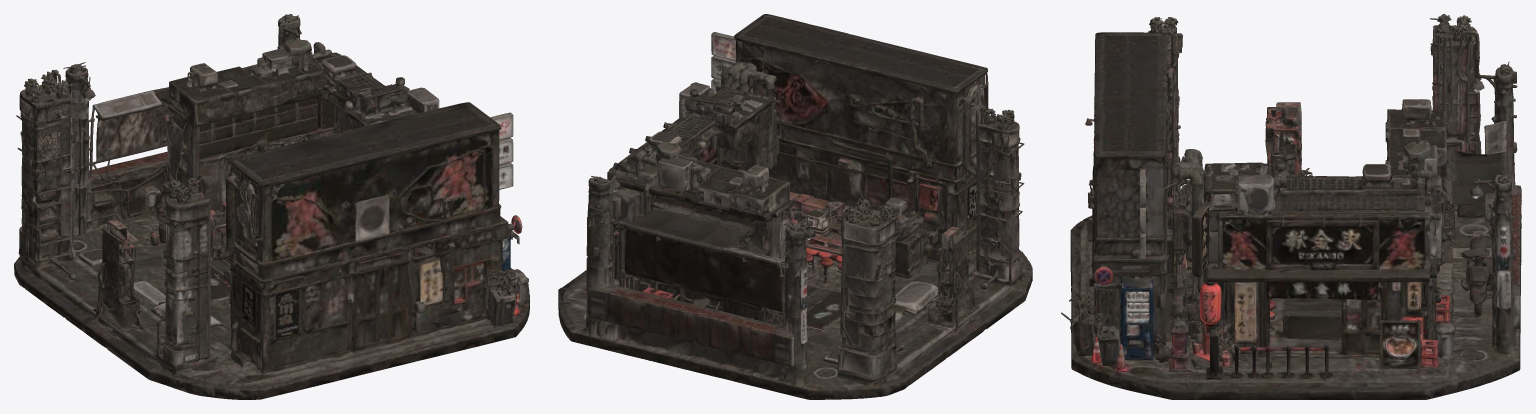
The model's file is kikanbooffen-web.glb.
The picture shows the model from 3 angles, left to right: view 1: azimuth 30°, elevation 25°; view 2: azimuth 150°, elevation 25°; view 3: azimuth 270°, elevation 25°; orthographic projection. The views are drawn at different scales.
Bounding box in the file's own units: 1.88 × 0.9683 × 1.89.
Materials: 1 (1 with a texture image).
